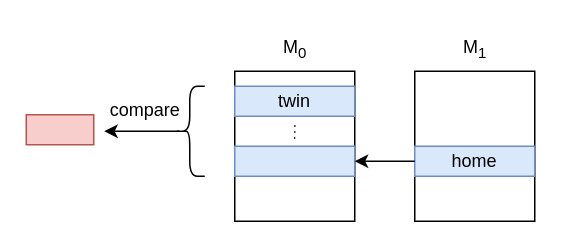
Some shapes in this 561 by 248 pixel diagram are drawn without their labels. The shapes that lost their labels are listed below. From the top down, each one's box as (x1, y1, x2, y2) in pixels, then its label:
(25, 113, 94, 145): diffs
(233, 145, 355, 176): copy
